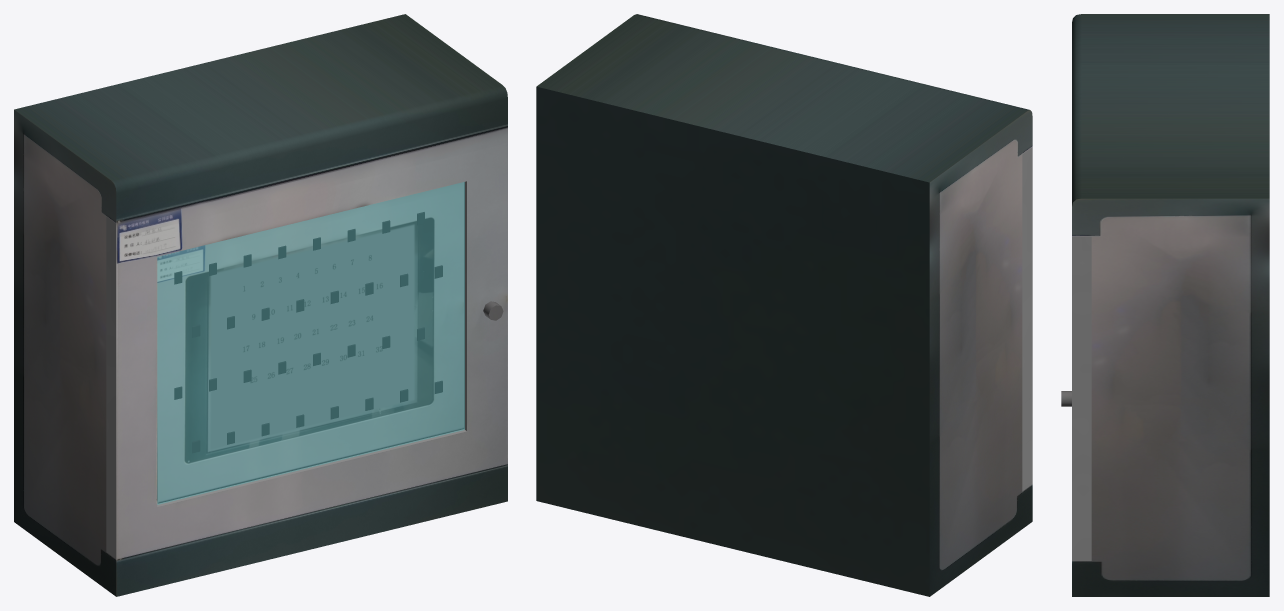
File: CK-yaoshigui0001-CJBZ.FBX
3 views of the same model, side by side, from view 1: azimuth 30°, elevation 25°; view 2: azimuth 150°, elevation 25°; view 3: azimuth 270°, elevation 25° (orthographic). The views are drawn at different scales.
Visible parts, largest first — view 1: CK-yaoshigui0001-CJBZ; view 2: CK-yaoshigui0001-CJBZ; view 3: CK-yaoshigui0001-CJBZ.
Boxes of the visible parts, bbox=[...] form: CK-yaoshigui0001-CJBZ: bbox=[14, 14, 507, 596]; CK-yaoshigui0001-CJBZ: bbox=[536, 14, 1032, 596]; CK-yaoshigui0001-CJBZ: bbox=[1061, 14, 1269, 596].
Bounding box in the file's own units: 0.5449 × 0.5485 × 0.2601.
Materials: 2 (1 with a texture image).
